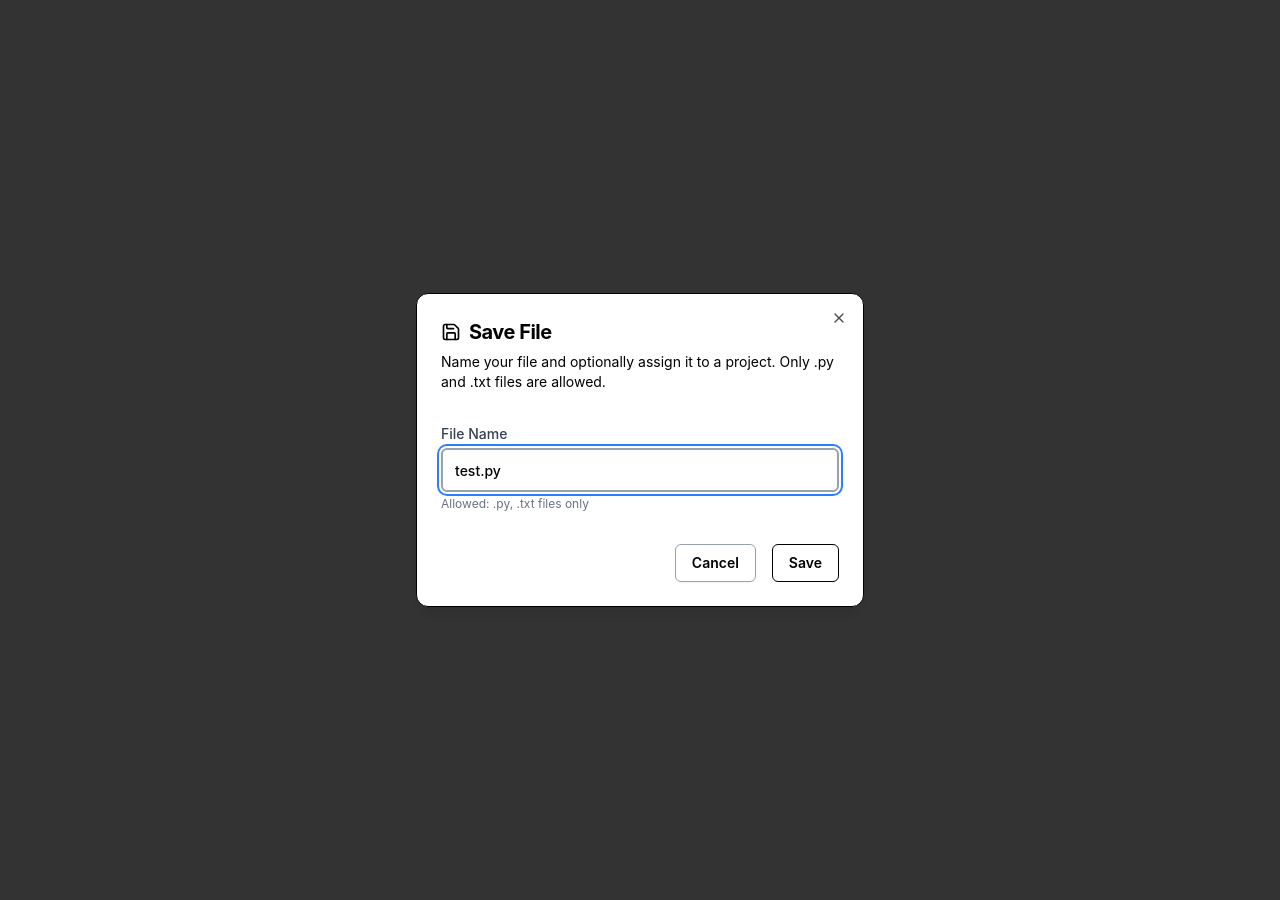
SaveDialog › Enter key with empty filename shows error and does not save
# Clear the filename
Clear the field showing "test.py" at x=640, y=470, box [441, 448, 839, 492]
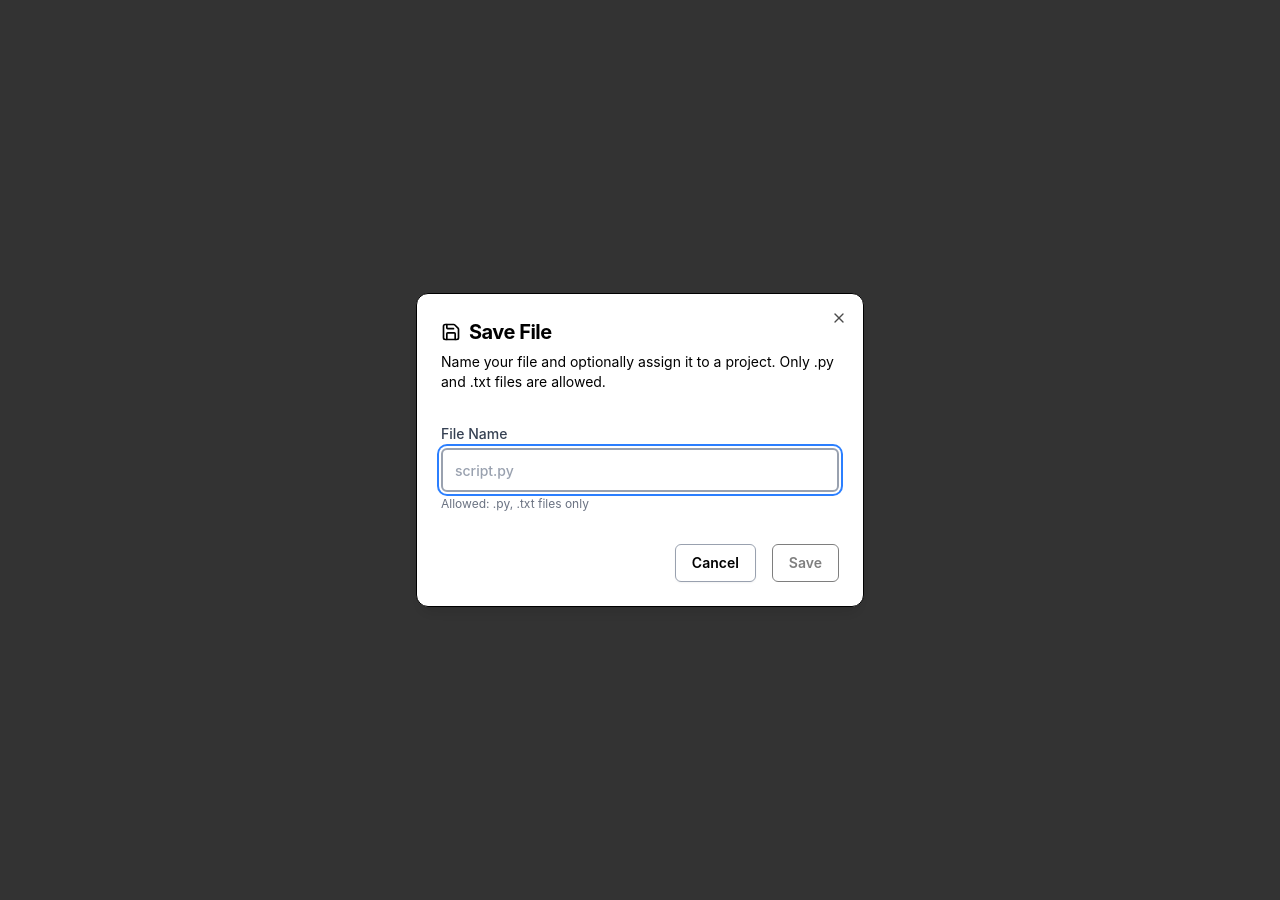
# Press Enter — should trigger handleSave which hits the empty-name guard
Press Enter in the field showing "test.py", box [441, 448, 839, 492]
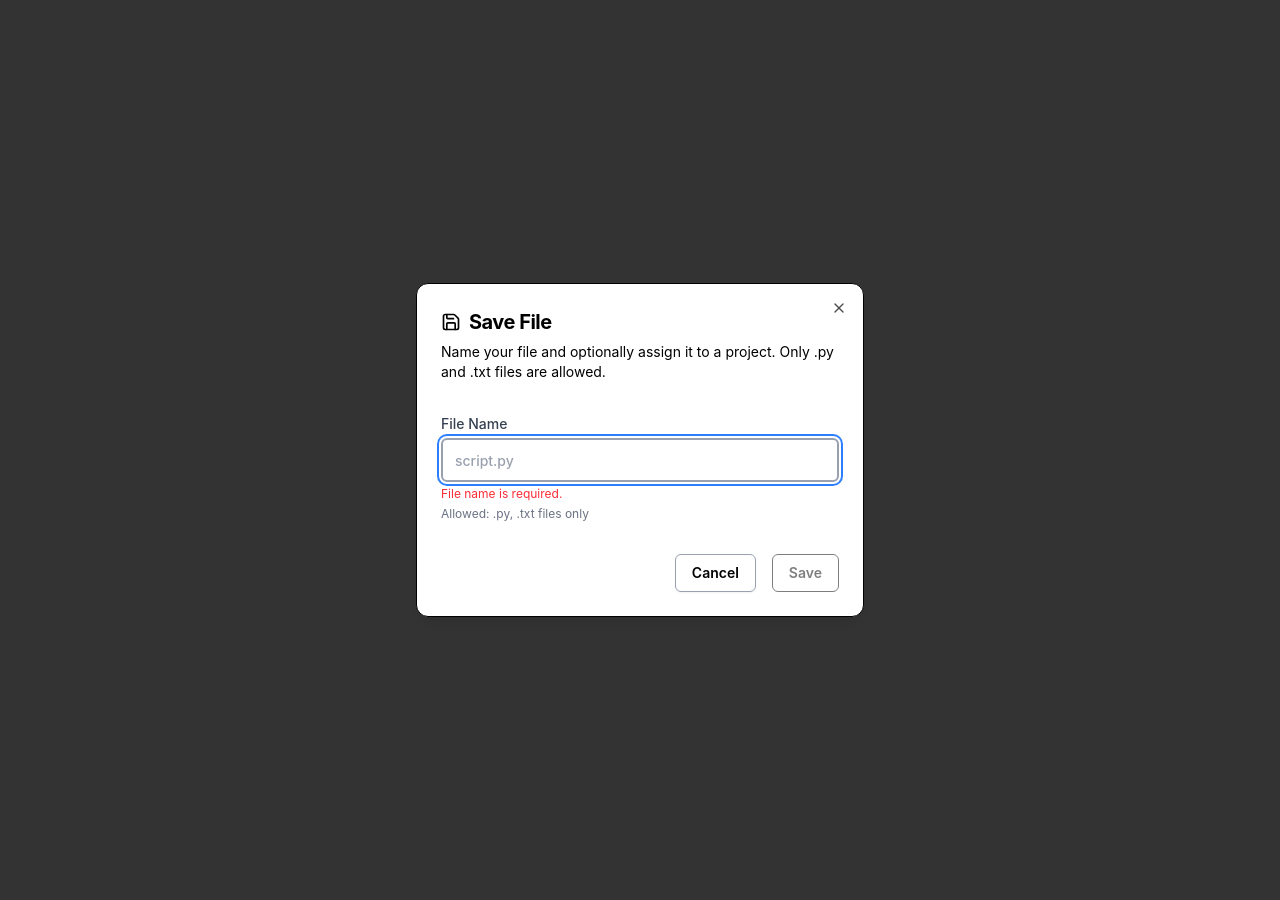
Expected: the text "File name is required." is shown, [441, 486, 562, 501]
